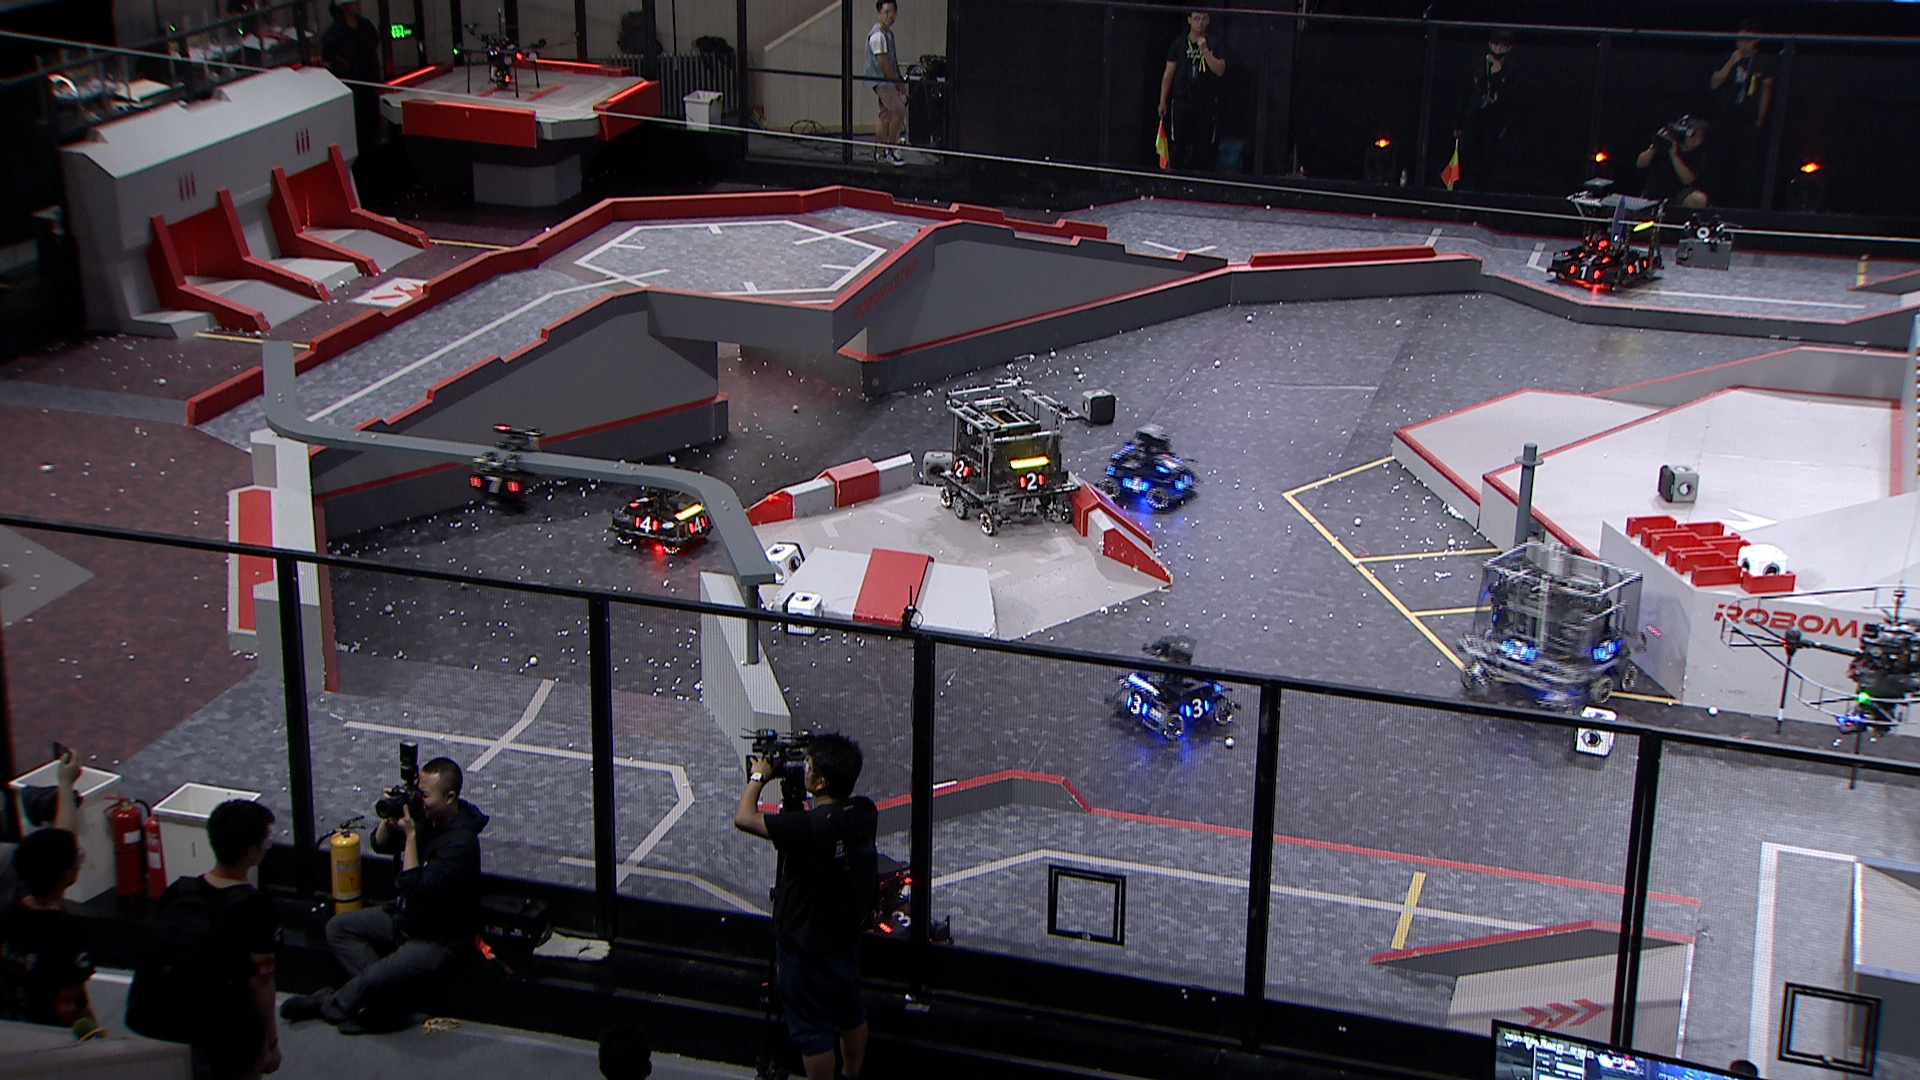armor: (877, 905, 913, 934), (469, 473, 520, 493), (1501, 638, 1538, 665), (1594, 636, 1621, 662), (1565, 262, 1602, 281), (1124, 692, 1149, 717), (1183, 698, 1211, 719), (1015, 472, 1046, 491), (1124, 473, 1150, 495), (633, 514, 662, 533), (949, 460, 972, 481), (684, 516, 708, 535), (1174, 472, 1195, 493), (1576, 251, 1611, 262), (1155, 456, 1179, 473), (1625, 257, 1648, 273), (626, 493, 651, 505)
car: (1453, 533, 1651, 717), (939, 373, 1081, 537), (808, 851, 955, 973), (1100, 632, 1240, 742), (1545, 174, 1669, 291), (605, 462, 713, 556), (1093, 425, 1203, 516)
watcher: (465, 425, 550, 516)
